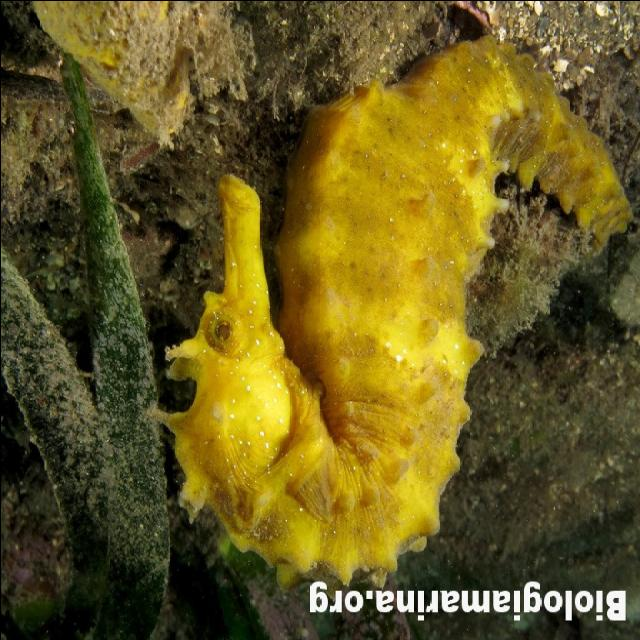Guttu: (168, 163, 302, 571)
